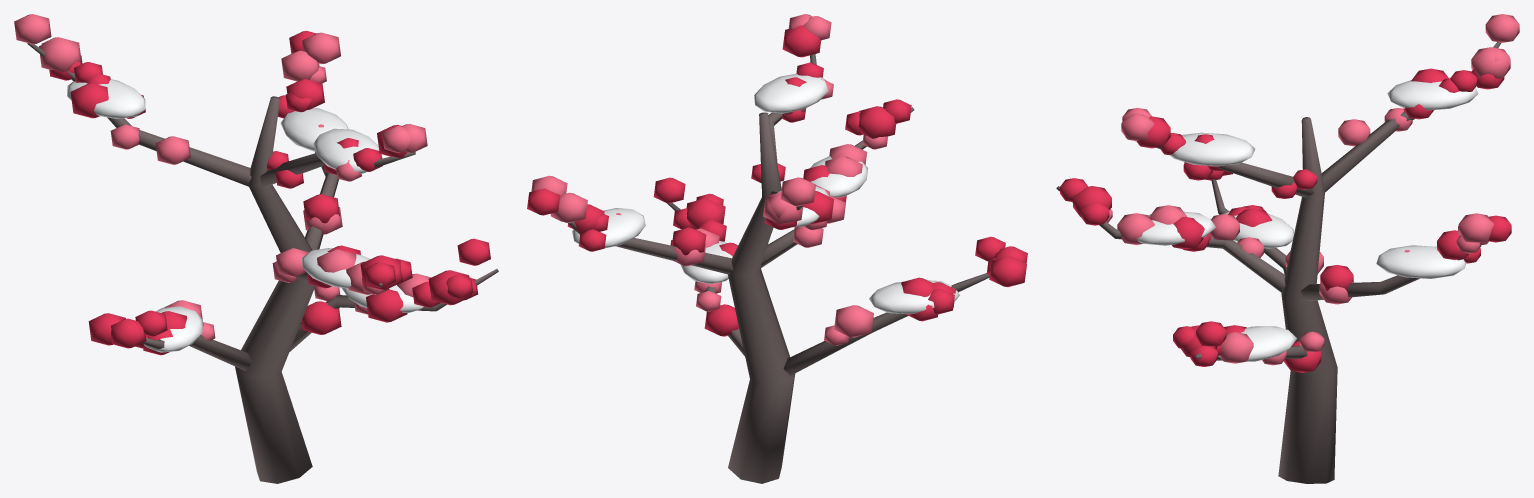
Rendered from plum_b.glb.
3 views of the same model, side by side, from view 1: azimuth 30°, elevation 25°; view 2: azimuth 150°, elevation 25°; view 3: azimuth 270°, elevation 25° (orthographic). The views are drawn at different scales.
Parts seen in each view (by area): view 1: Trunk, Branch2, Snow1, Snow5, Snow2, Snow3, Branch3, Bloom.027, Branch5, Snow4, Bloom.009, Bloom (+22 smaller); view 2: Trunk, Snow5, Branch3, Snow3, Branch1, Snow1, Bloom.038, Snow4, Bloom.044, Bloom.035, Bloom.054, Bloom.007 (+12 smaller); view 3: Trunk, Snow1, Snow5, Snow2, Branch2, Branch4, Snow0, Snow3, Branch1, Snow4, Branch5, Bloom.027 (+18 smaller).
Boxes of the visible parts, x1,y1,x2,y2 form: Trunk: (235, 96, 315, 483); Branch2: (27, 43, 251, 186); Snow1: (280, 108, 348, 151); Snow5: (313, 128, 382, 173); Snow2: (67, 79, 145, 118); Snow3: (144, 306, 202, 352); Branch3: (142, 335, 251, 370); Bloom.027: (39, 37, 81, 71); Branch5: (260, 152, 415, 187); Snow4: (301, 248, 370, 288); Bloom.009: (301, 301, 341, 334); Bloom: (366, 289, 407, 322); Trunk: (728, 112, 795, 483); Snow5: (754, 73, 828, 113); Branch3: (783, 273, 989, 375); Snow3: (869, 280, 959, 314); Branch1: (568, 222, 733, 274); Snow1: (572, 208, 645, 248); Bloom.038: (834, 305, 873, 337); Snow4: (810, 156, 867, 197); Bloom.044: (858, 106, 896, 138); Bloom.035: (989, 256, 1026, 287); Bloom.054: (782, 25, 821, 57); Bloom.007: (686, 198, 725, 229); Trunk: (1278, 117, 1337, 483); Snow1: (1376, 245, 1466, 278); Snow5: (1170, 132, 1255, 166); Snow2: (1387, 77, 1478, 110); Branch2: (1321, 42, 1501, 192); Branch4: (1056, 186, 1285, 292); Snow0: (1218, 326, 1297, 361); Snow3: (1224, 212, 1293, 248); Branch1: (1301, 253, 1469, 300); Snow4: (1137, 211, 1215, 245); Branch5: (1125, 137, 1313, 197); Bloom.027: (1471, 47, 1510, 78).
Bounding box in the file's own units: 2.76 × 2.83 × 2.96.
